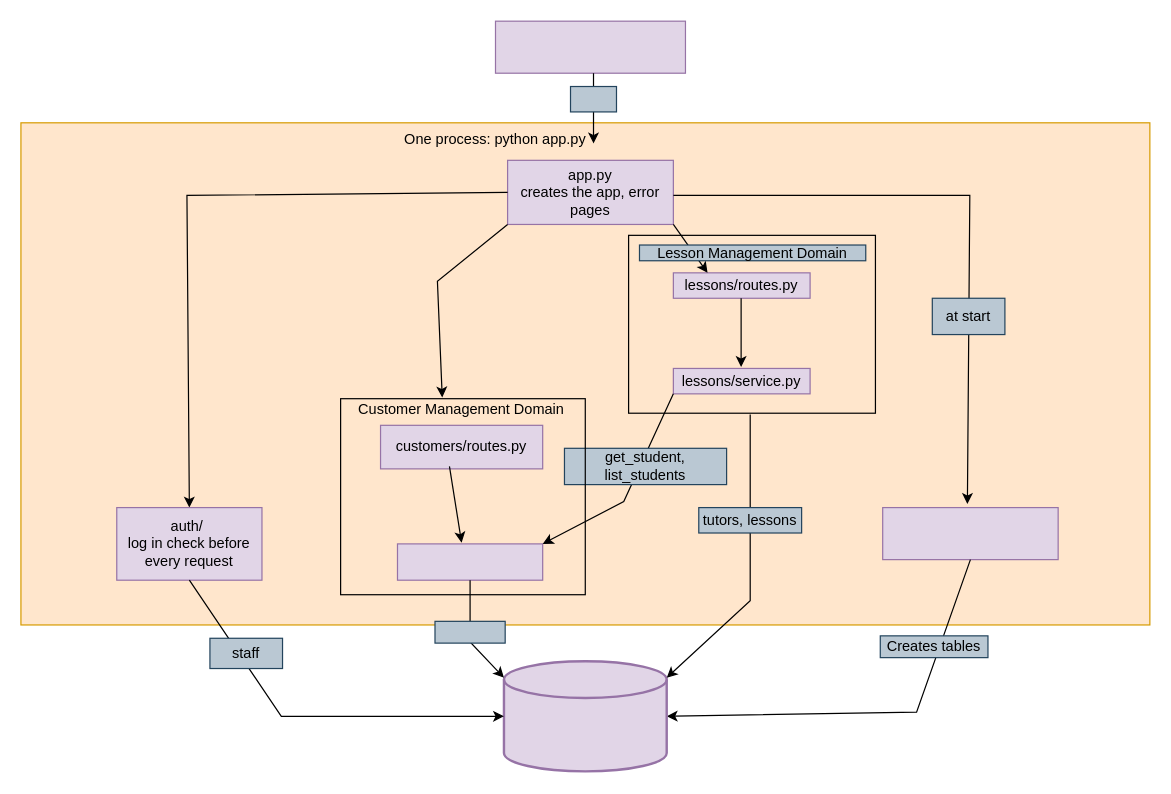
Some shapes in this 1171 by 794 pixel diagram are drawn without their labels. The shapes that lost their labels are listed below. From the top down, each one's box as (x1, y1, x2, y2) in pixels, then its label:
(494, 20, 685, 73): Staff Member's Browser
(569, 85, 616, 112): HTTP
(881, 506, 1058, 560): database.py connections, schema
(396, 543, 543, 580): customers/service.py
(434, 620, 505, 643): students
(502, 659, 667, 772): DATA_DIR/tutoring.db SQLite
